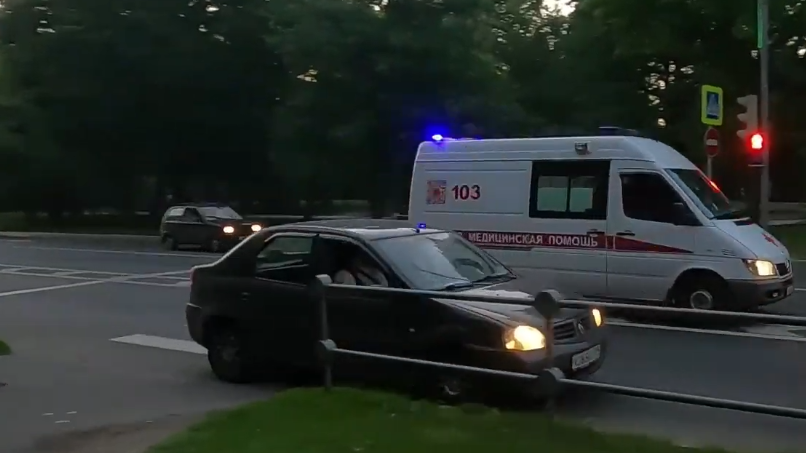ambulance: (410, 135, 794, 325)
non emergency car: (183, 217, 608, 400), (157, 198, 264, 252)
